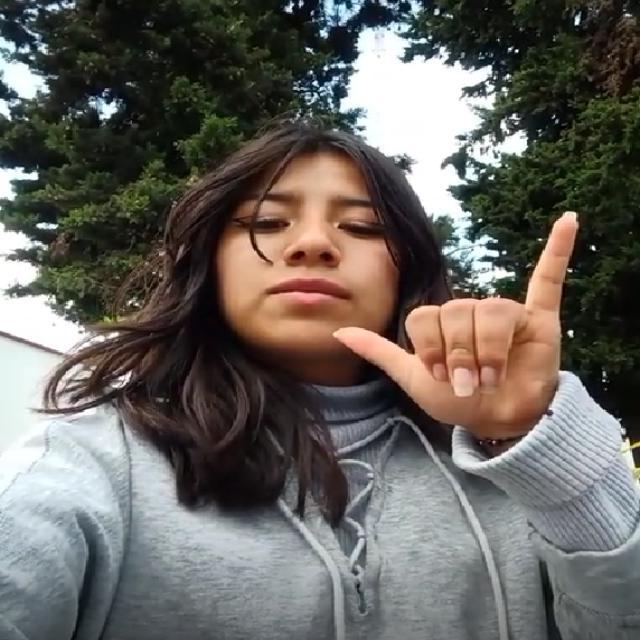Y: (322, 182, 616, 436)
